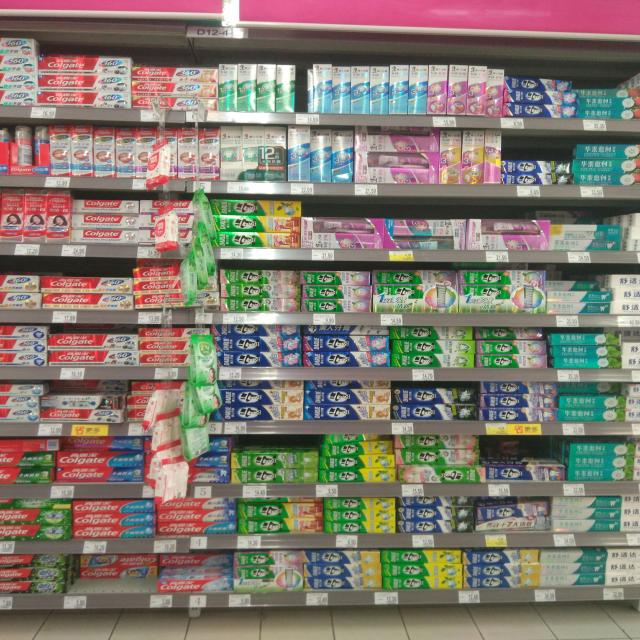unorganised: (43, 382, 125, 423), (473, 495, 551, 534), (78, 555, 156, 589), (502, 73, 575, 93), (62, 437, 144, 453), (158, 553, 232, 567), (14, 124, 36, 168), (302, 324, 390, 335), (547, 277, 608, 292), (1, 438, 62, 452), (539, 209, 594, 222), (577, 87, 639, 98), (322, 434, 394, 443)
